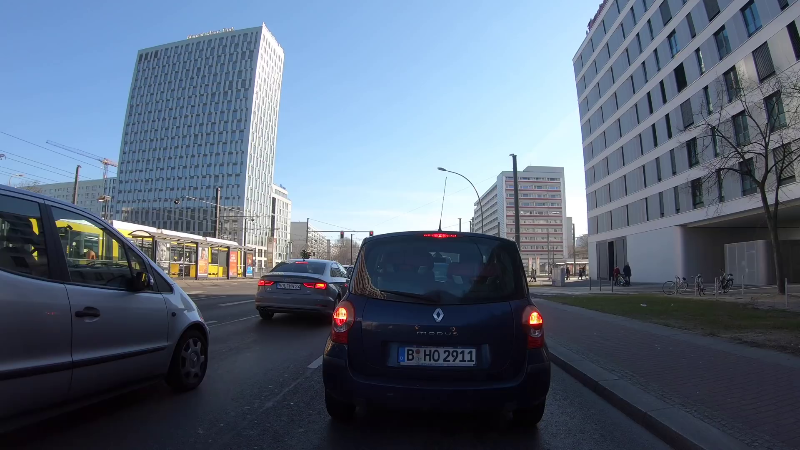Plate: (395, 344, 478, 369), (275, 281, 301, 293)
